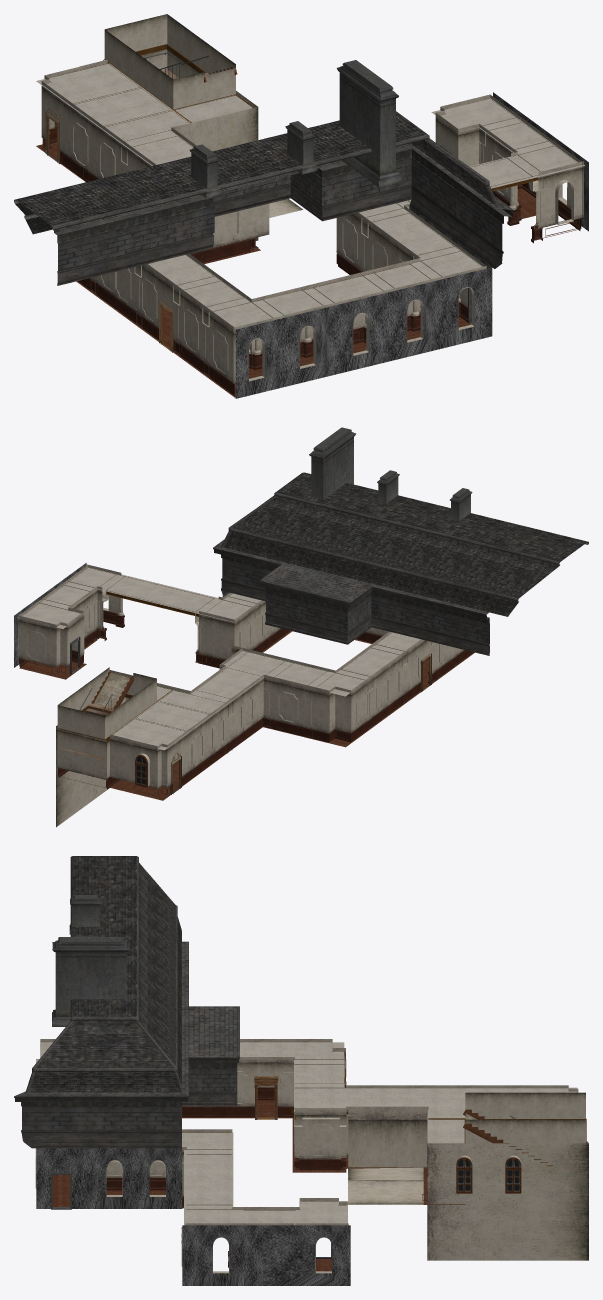
3 renders of one model, top to bottom at view 1: azimuth 30°, elevation 25°; view 2: azimuth 150°, elevation 25°; view 3: azimuth 270°, elevation 25°, orthographic. The views are drawn at different scales.
Parts seen in each view (by area): view 1: LOD_1_Group_0_Sub_2__st2_police2fRightWall02, LOD_1_Group_0_Sub_7__st2_police1fLeftCeiling01, LOD_1_Group_0_Sub_21__st1_townPolice01_Mat1, LOD_1_Group_0_Sub_17__Wall_Mat, LOD_1_Group_0_Sub_20__st1_townPoliceRoof_Mat, LOD_1_Group_0_Sub_18__st1_townPoliceparts00_Mat, LOD_1_Group_0_Sub_6__st2_police2fRightWall08, LOD_1_Group_0_Sub_4__st2_police2fRightWall06, LOD_1_Group_0_Sub_19__st1_townPolice00_Mat1, LOD_1_Group_0_Sub_1__st2_police2fRightFloor01, LOD_1_Group_0_Sub_10__st2_police2fRightFrame01, LOD_1_Group_0_Sub_3__st2_police2fRightDoor01 (+1 smaller); view 2: LOD_1_Group_0_Sub_2__st2_police2fRightWall02, LOD_1_Group_0_Sub_20__st1_townPoliceRoof_Mat, LOD_1_Group_0_Sub_21__st1_townPolice01_Mat1, LOD_1_Group_0_Sub_7__st2_police1fLeftCeiling01, LOD_1_Group_0_Sub_4__st2_police2fRightWall06, LOD_1_Group_0_Sub_18__st1_townPoliceparts00_Mat, LOD_1_Group_0_Sub_6__st2_police2fRightWall08, LOD_1_Group_0_Sub_19__st1_townPolice00_Mat1, LOD_1_Group_0_Sub_1__st2_police2fRightFloor01, LOD_1_Group_0_Sub_3__st2_police2fRightDoor01, LOD_1_Group_0_Sub_10__st2_police2fRightFrame01, LOD_1_Group_0_Sub_9__st2_police1fLeftCeiling05 (+1 smaller); view 3: LOD_1_Group_0_Sub_2__st2_police2fRightWall02, LOD_1_Group_0_Sub_20__st1_townPoliceRoof_Mat, LOD_1_Group_0_Sub_17__Wall_Mat, LOD_1_Group_0_Sub_21__st1_townPolice01_Mat1, LOD_1_Group_0_Sub_7__st2_police1fLeftCeiling01, LOD_1_Group_0_Sub_18__st1_townPoliceparts00_Mat, LOD_1_Group_0_Sub_6__st2_police2fRightWall08, LOD_1_Group_0_Sub_19__st1_townPolice00_Mat1, LOD_1_Group_0_Sub_4__st2_police2fRightWall06, LOD_1_Group_0_Sub_1__st2_police2fRightFloor01, LOD_1_Group_0_Sub_15__st2_police1fLeftWindow01_Glass, LOD_1_Group_0_Sub_16__st2_police1fLeftWindow01.
Part boxes in pixels (<box>): LOD_1_Group_0_Sub_2__st2_police2fRightWall02: <box>41,49,583,383</box>; LOD_1_Group_0_Sub_7__st2_police1fLeftCeiling01: <box>36,63,584,327</box>; LOD_1_Group_0_Sub_21__st1_townPolice01_Mat1: <box>54,143,514,285</box>; LOD_1_Group_0_Sub_17__Wall_Mat: <box>235,92,588,398</box>; LOD_1_Group_0_Sub_20__st1_townPoliceRoof_Mat: <box>15,112,494,234</box>; LOD_1_Group_0_Sub_18__st1_townPoliceparts00_Mat: <box>189,60,401,197</box>; LOD_1_Group_0_Sub_6__st2_police2fRightWall08: <box>104,14,235,109</box>; LOD_1_Group_0_Sub_4__st2_police2fRightWall06: <box>42,127,581,395</box>; LOD_1_Group_0_Sub_19__st1_townPolice00_Mat1: <box>14,111,499,230</box>; LOD_1_Group_0_Sub_1__st2_police2fRightFloor01: <box>36,142,535,397</box>; LOD_1_Group_0_Sub_10__st2_police2fRightFrame01: <box>46,44,581,297</box>; LOD_1_Group_0_Sub_3__st2_police2fRightDoor01: <box>73,122,507,373</box>; LOD_1_Group_0_Sub_2__st2_police2fRightWall02: <box>18,564,464,827</box>; LOD_1_Group_0_Sub_20__st1_townPoliceRoof_Mat: <box>224,472,587,616</box>; LOD_1_Group_0_Sub_21__st1_townPolice01_Mat1: <box>213,539,489,655</box>; LOD_1_Group_0_Sub_7__st2_police1fLeftCeiling01: <box>17,567,420,750</box>; LOD_1_Group_0_Sub_4__st2_police2fRightWall06: <box>19,610,473,796</box>; LOD_1_Group_0_Sub_18__st1_townPoliceparts00_Mat: <box>309,427,472,521</box>; LOD_1_Group_0_Sub_6__st2_police2fRightWall08: <box>57,667,156,739</box>; LOD_1_Group_0_Sub_19__st1_townPolice00_Mat1: <box>221,472,588,601</box>; LOD_1_Group_0_Sub_1__st2_police2fRightFloor01: <box>19,631,474,800</box>; LOD_1_Group_0_Sub_3__st2_police2fRightDoor01: <box>27,605,449,765</box>; LOD_1_Group_0_Sub_10__st2_police2fRightFrame01: <box>26,567,391,743</box>; LOD_1_Group_0_Sub_9__st2_police1fLeftCeiling05: <box>93,673,129,708</box>; LOD_1_Group_0_Sub_2__st2_police2fRightWall02: <box>35,1039,588,1273</box>; LOD_1_Group_0_Sub_20__st1_townPoliceRoof_Mat: <box>29,856,181,1092</box>; LOD_1_Group_0_Sub_17__Wall_Mat: <box>36,1148,350,1285</box>; LOD_1_Group_0_Sub_21__st1_townPolice01_Mat1: <box>14,941,239,1148</box>; LOD_1_Group_0_Sub_7__st2_police1fLeftCeiling01: <box>40,1042,577,1225</box>; LOD_1_Group_0_Sub_18__st1_townPoliceparts00_Mat: <box>52,895,129,1026</box>; LOD_1_Group_0_Sub_6__st2_police2fRightWall08: <box>465,1092,585,1143</box>; LOD_1_Group_0_Sub_19__st1_townPolice00_Mat1: <box>25,856,183,1093</box>; LOD_1_Group_0_Sub_4__st2_police2fRightWall06: <box>106,1087,427,1267</box>; LOD_1_Group_0_Sub_1__st2_police2fRightFloor01: <box>52,1100,465,1273</box>; LOD_1_Group_0_Sub_15__st2_police1fLeftWindow01_Glass: <box>457,1159,520,1191</box>; LOD_1_Group_0_Sub_16__st2_police1fLeftWindow01: <box>456,1157,521,1193</box>.
Bounding box in the file's own units: 33.97 × 17.65 × 32.12.
